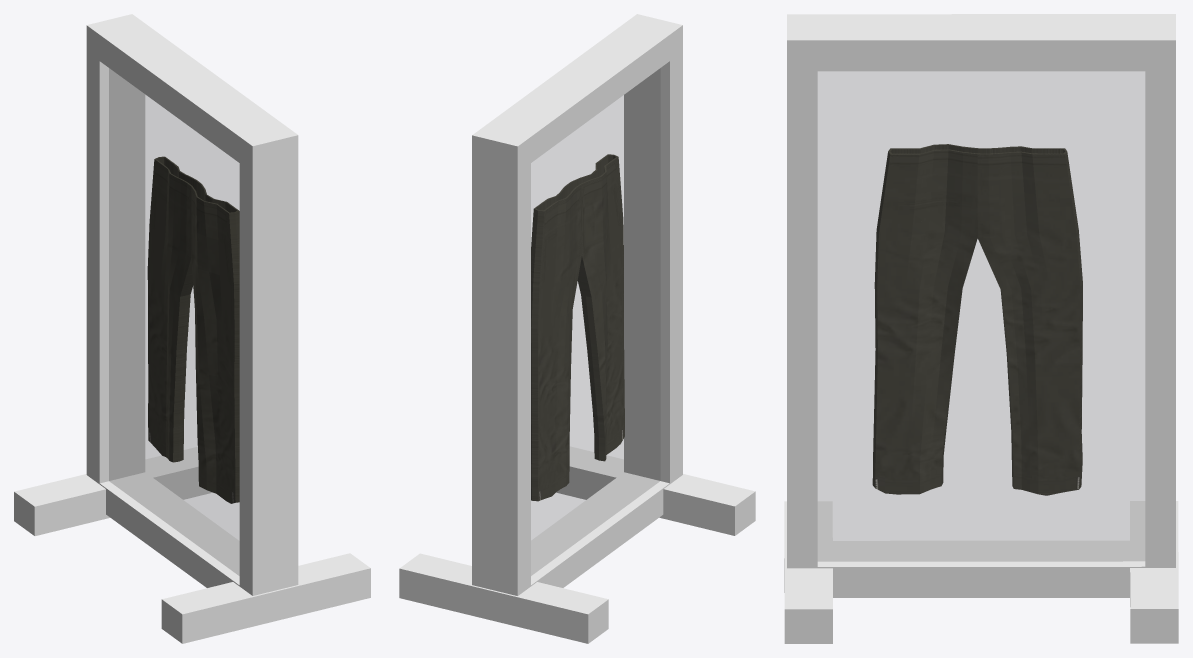
Rendered from chino_green.gltf.
3 views of the same model, side by side, from view 1: azimuth 30°, elevation 25°; view 2: azimuth 150°, elevation 25°; view 3: azimuth 270°, elevation 25° (orthographic). The views are drawn at different scales.
Visible parts, largest first — view 1: Cube.026, Plane.015; view 2: Cube.026, Plane.015; view 3: Cube.026, Plane.015.
Boxes of the visible parts, <box> form: Cube.026: <box>14,14,370,643</box>; Plane.015: <box>147,156,239,503</box>; Cube.026: <box>399,14,755,643</box>; Plane.015: <box>531,154,624,501</box>; Cube.026: <box>784,14,1178,643</box>; Plane.015: <box>872,144,1082,495</box>.
Size of the model in its own units: 0.2902 by 0.7029 by 0.4467.
Materials: 4 (1 with a texture image).
